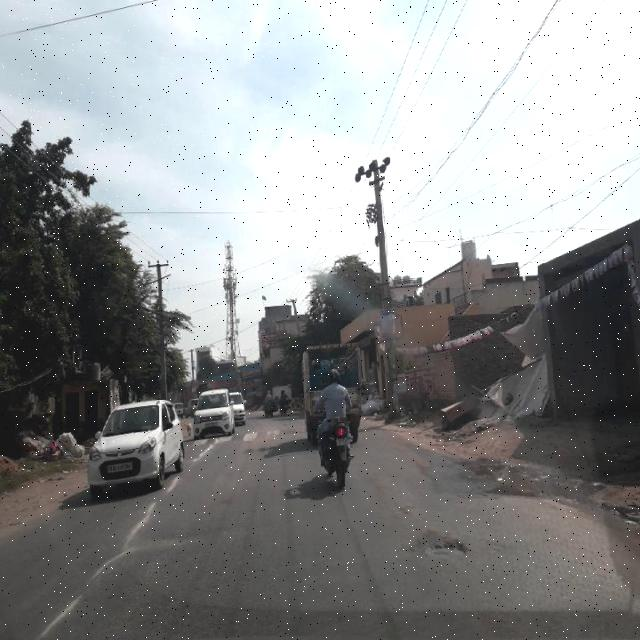D40: (415, 534, 474, 558)
